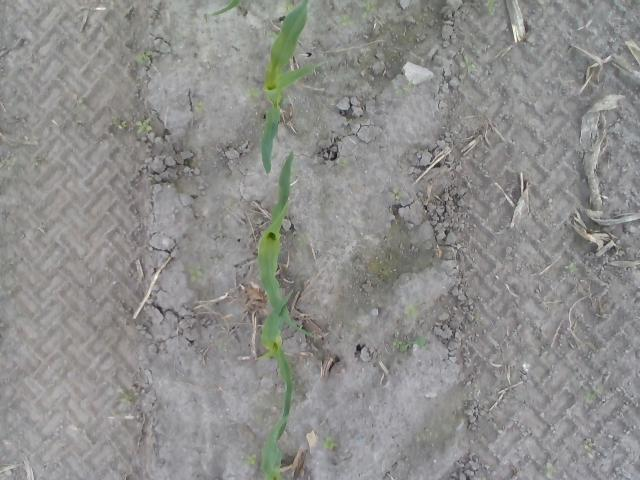Maize: (258, 151, 327, 342), (261, 0, 331, 176), (253, 289, 294, 480)
Weeds: (580, 381, 603, 404), (395, 336, 427, 352), (134, 118, 154, 136), (396, 78, 415, 96), (360, 1, 378, 20), (116, 388, 134, 405), (189, 264, 205, 282), (336, 12, 356, 26), (392, 188, 409, 202), (484, 0, 498, 17), (461, 56, 475, 72), (192, 100, 208, 114), (137, 52, 152, 66), (245, 453, 259, 467), (324, 436, 338, 450), (282, 1, 296, 14), (115, 118, 132, 128), (584, 442, 596, 456), (246, 89, 264, 98), (72, 100, 88, 110), (546, 462, 556, 478), (406, 305, 419, 317), (298, 236, 309, 246), (337, 158, 348, 167), (568, 262, 577, 271)
